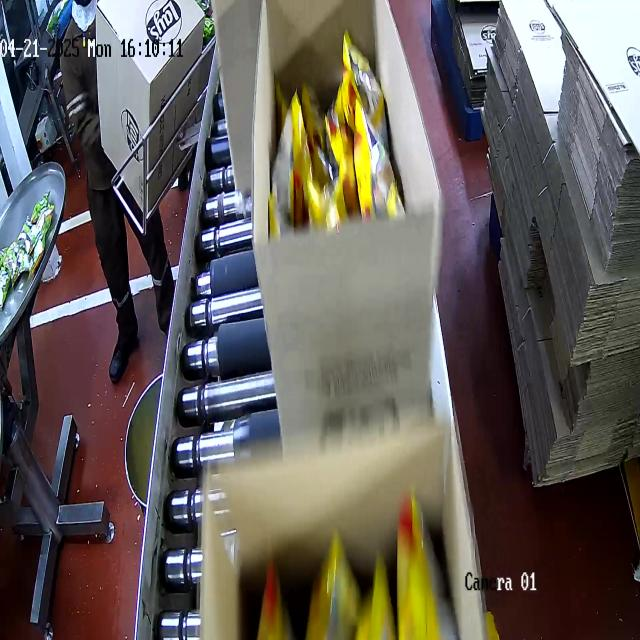SALTED: (268, 52, 417, 235)
